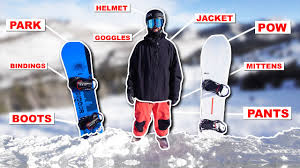snowboard: (61, 40, 107, 139), (197, 33, 234, 143)
